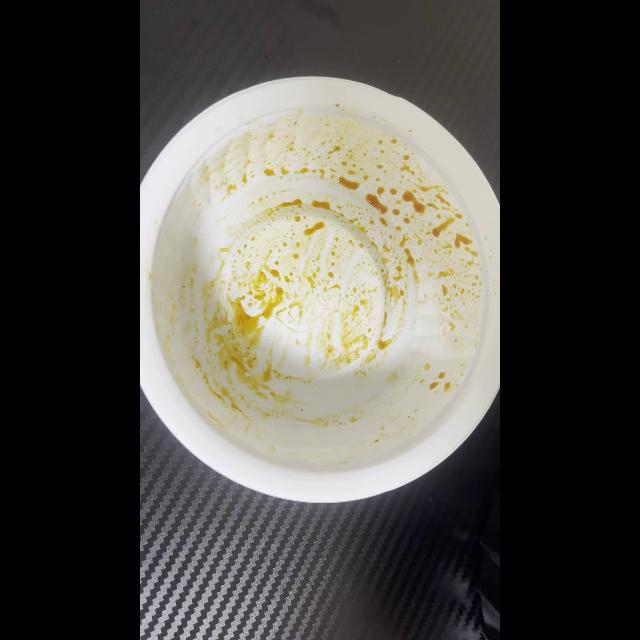dirty: (140, 78, 496, 494)
